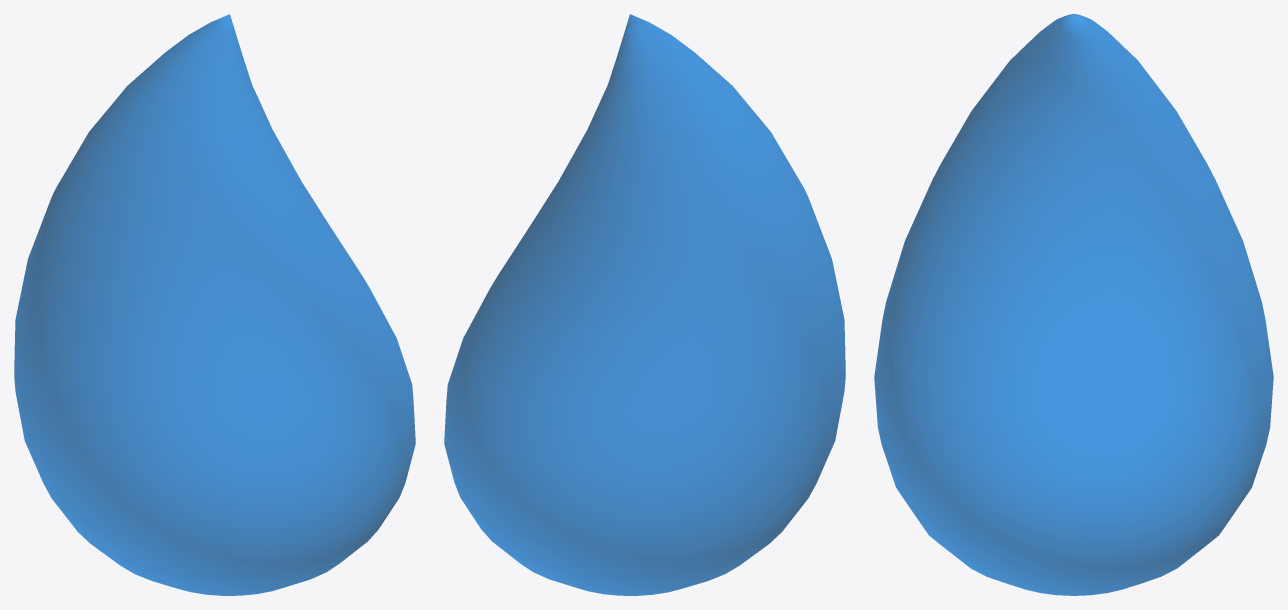
The model's file is Medium Flame.dae.
3 renders of one model, left to right at view 1: azimuth 30°, elevation 25°; view 2: azimuth 150°, elevation 25°; view 3: azimuth 270°, elevation 25°, orthographic.
Visible parts, largest first — view 1: Medium Flame; view 2: Medium Flame; view 3: Medium Flame.
Part boxes in pixels (x1,y1,x2,y2): Medium Flame: [14, 14, 415, 595]; Medium Flame: [444, 14, 845, 595]; Medium Flame: [874, 14, 1273, 595].
Size of the model in its own units: 0.8957 by 0.8895 by 1.38.
